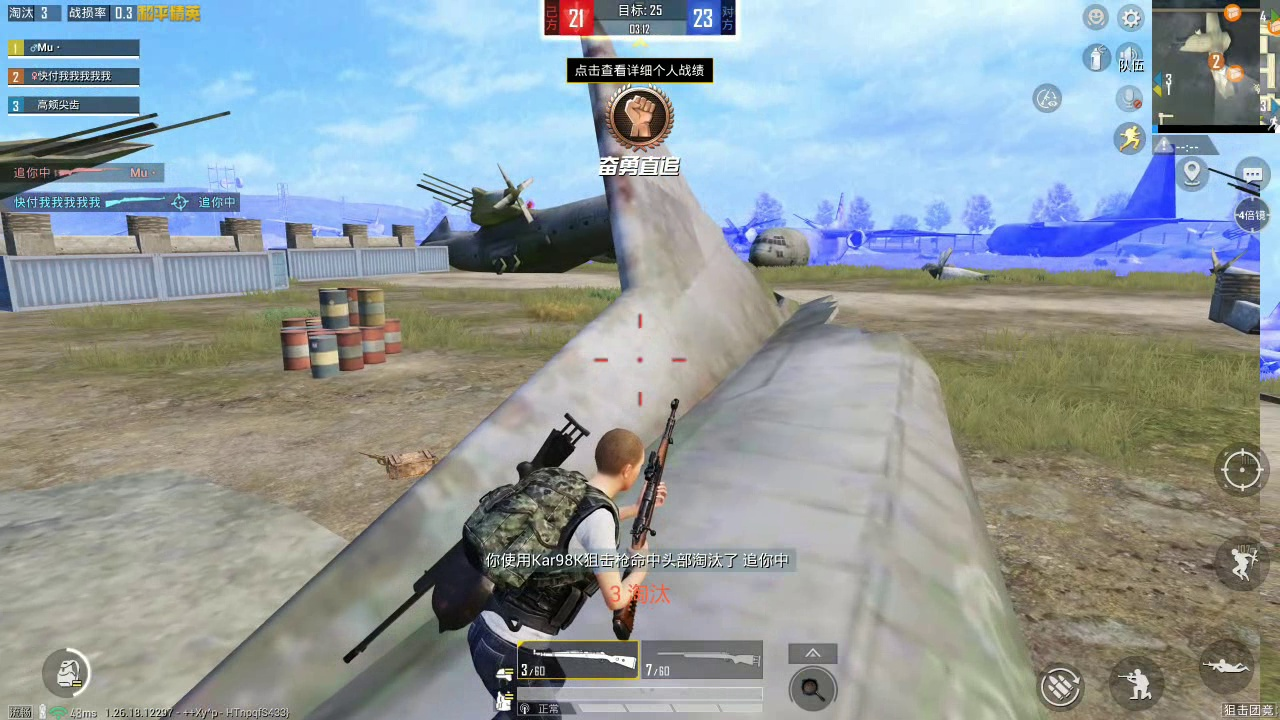enemy: (526, 198, 534, 209)
